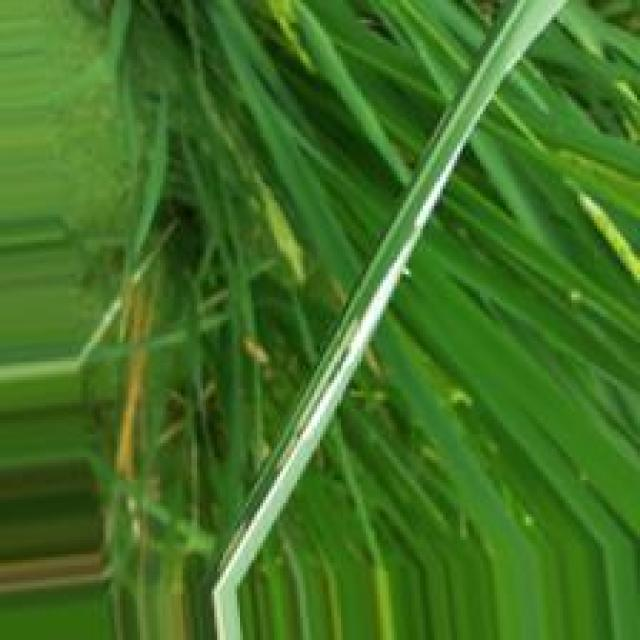Rice_Hispa: (208, 142, 465, 640)
